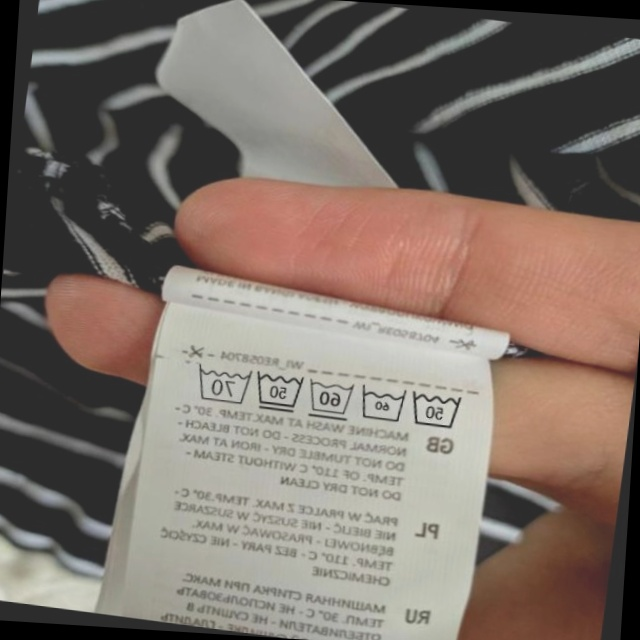50C: (405, 383, 463, 434), (250, 368, 304, 415)
60C: (302, 376, 356, 422), (354, 383, 408, 425)
70C: (190, 361, 252, 410)
